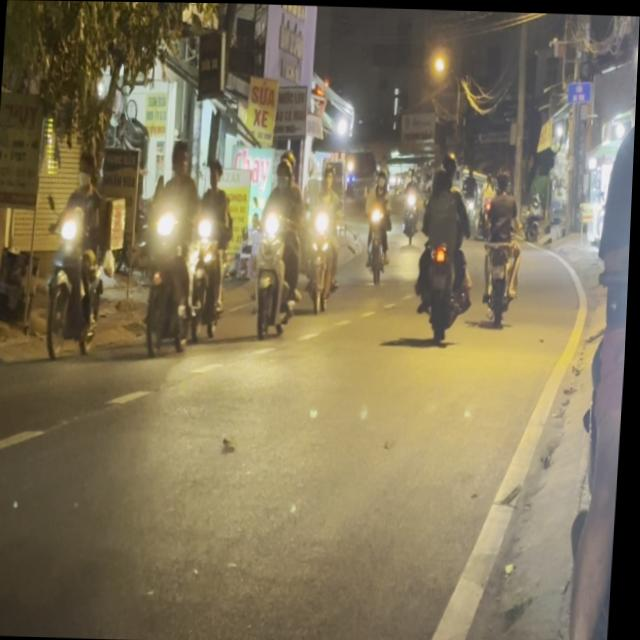helmet: (275, 155, 295, 189)
licenseplate: (38, 143, 116, 363), (139, 132, 207, 357), (248, 143, 310, 340)
motorcyclist: (75, 146, 99, 185), (169, 134, 192, 172)
